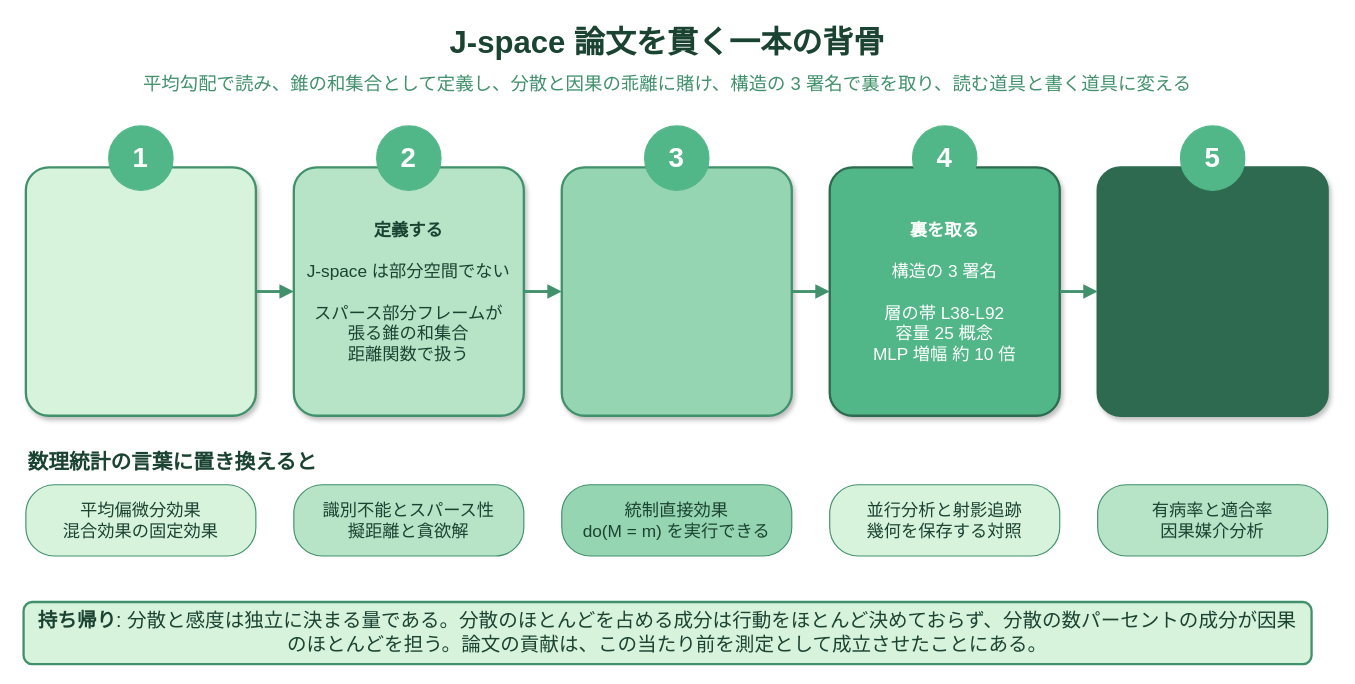
Some shapes in this 1355 by 684 pixel diagram are drawn without their labels. The centre of each missing label's shape, as x and y in pixels:
読む 平均 Jacobian J = E[∂h_final / ∂h_ℓ] logit lens は J = I tuned lens は回帰: [141,292]
賭ける 分散と因果の乖離 分散 6-7% の成分が 因果の 6 割を担う 非 J 成分は 5%: [677,292]
道具にする 読む道具と書く道具 監査 = 沈黙した意図 内省訓練 = 内側に載せる 不正直 0.25 → 0.07: [1213,292]
